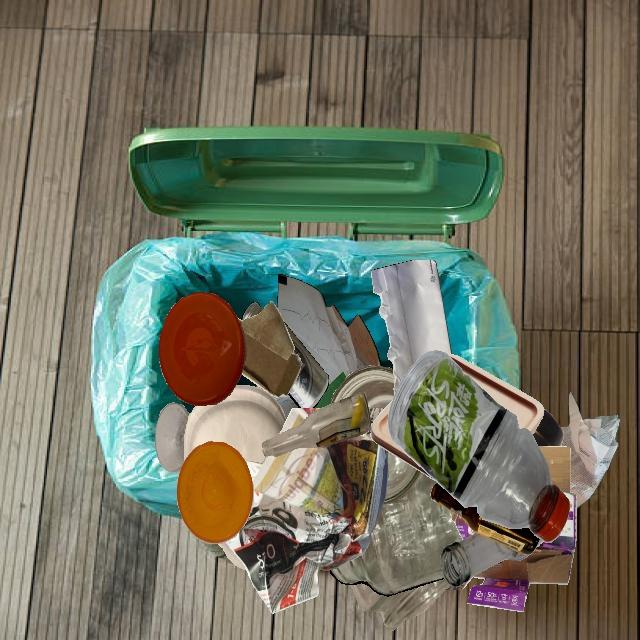cardboard: (468, 446, 576, 612), (238, 301, 302, 397)
combustible waste: (443, 352, 544, 435), (370, 399, 436, 481)
glass: (329, 472, 463, 596), (430, 483, 540, 555), (262, 392, 371, 457), (351, 578, 451, 631), (440, 533, 529, 587), (329, 365, 395, 408), (155, 402, 190, 473), (382, 451, 422, 505), (532, 409, 564, 447)
metal: (284, 321, 329, 408)
paper: (226, 408, 388, 613), (277, 274, 381, 385), (371, 260, 452, 395), (184, 385, 286, 463), (560, 392, 620, 509), (314, 372, 347, 408)
plastic: (388, 350, 570, 543), (159, 292, 246, 406), (177, 441, 253, 544)
